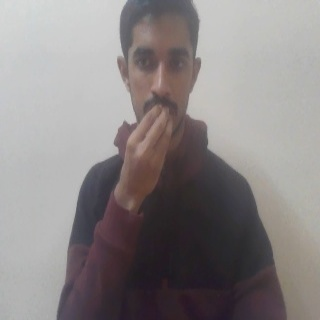Food: (115, 102, 174, 213)
